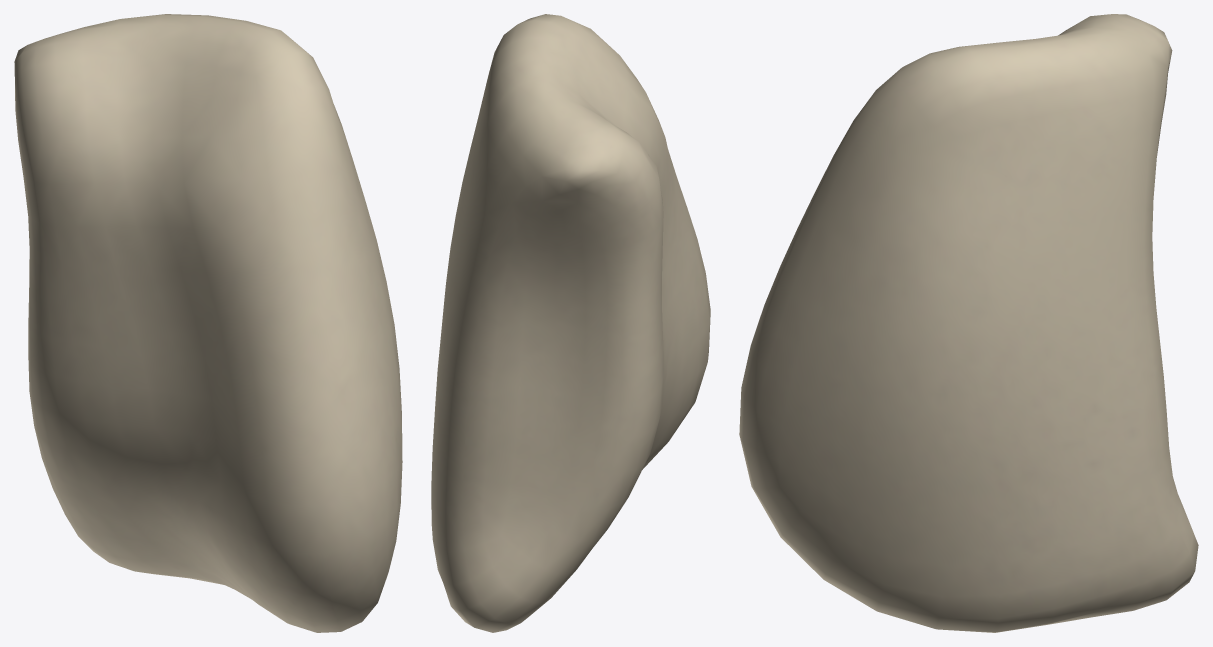
The model's file is L carpale quartum.fbx.
The picture shows the model from 3 angles, left to right: view 1: azimuth 30°, elevation 25°; view 2: azimuth 150°, elevation 25°; view 3: azimuth 270°, elevation 25°; orthographic projection. The views are drawn at different scales.
Visible parts, largest first — view 1: L carpale quartum; view 2: L carpale quartum; view 3: L carpale quartum.
Boxes of the visible parts, x1=… form: L carpale quartum: x1=14, y1=14, x2=402, y2=632; L carpale quartum: x1=431, y1=14, x2=710, y2=632; L carpale quartum: x1=739, y1=14, x2=1198, y2=632.
Size of the model in its own units: 1.29 by 2.61 by 1.91.
